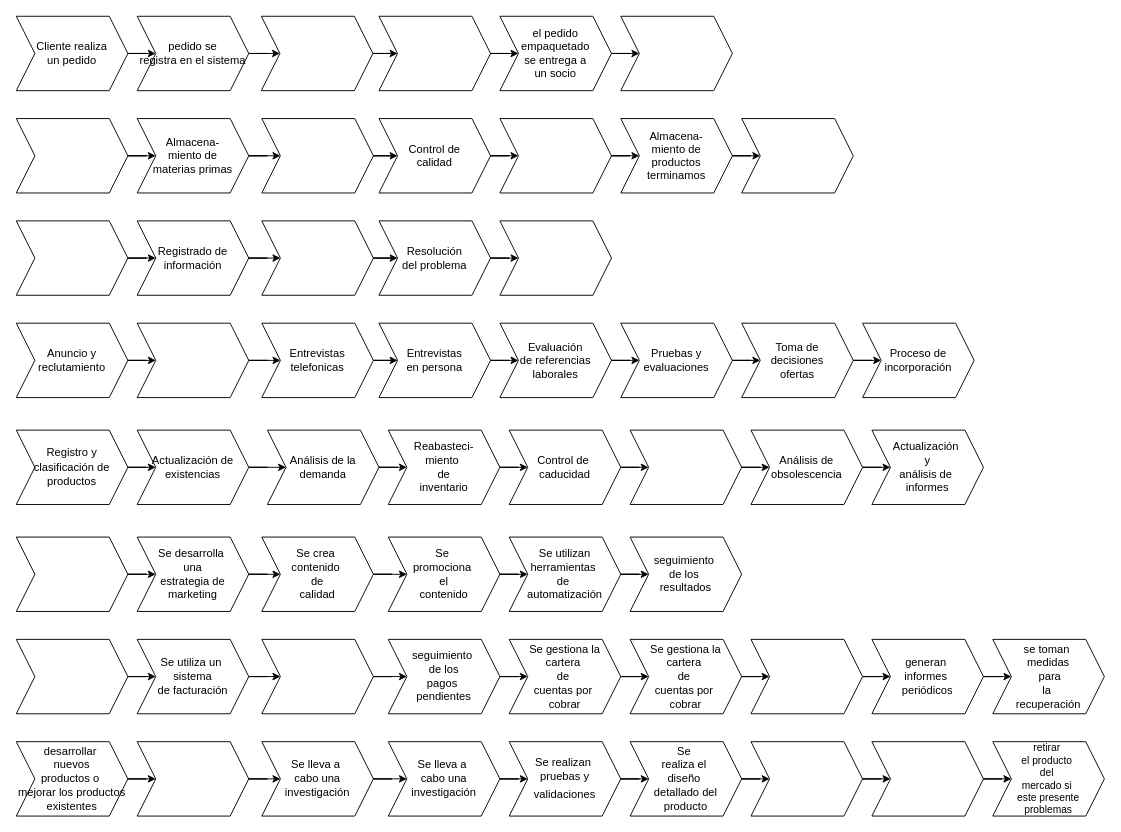
Image size: 1121x832. Some labels were removed from this diagram. Here are the shapes that lost their labels. From the top down, the centre of each, then its label:
(316,53): deposito recibe una notificación
(434,53): depósito que recoge los art- ículos
(676,53): el cliente se recibe el paquete
(71,155): Recepción de materias pri- mas
(317,155): Transforma- ción
(555,155): Empaqueta- do y etiquetado
(797,155): Distribución
(71,257): Recepción de solicitudes de atención
(317,257): Análisis y evaluación del problema
(555,257): Seguimiento y cierre
(192,360): Selección de currículums
(685,467): Realización de inventarios físicos
(71,573): Se realiza una investigación
(71,676): Se generan y envían facturas a los clientes
(317,676): Registro y actualización de enviós
(806,676): conciliación regular de las cuentas
(192,778): evalúa la viabilidad técnica
(806,778): se lanza al mercado a través de actividades de marketing
(927,778): seguimiento del rendimiento del producto
